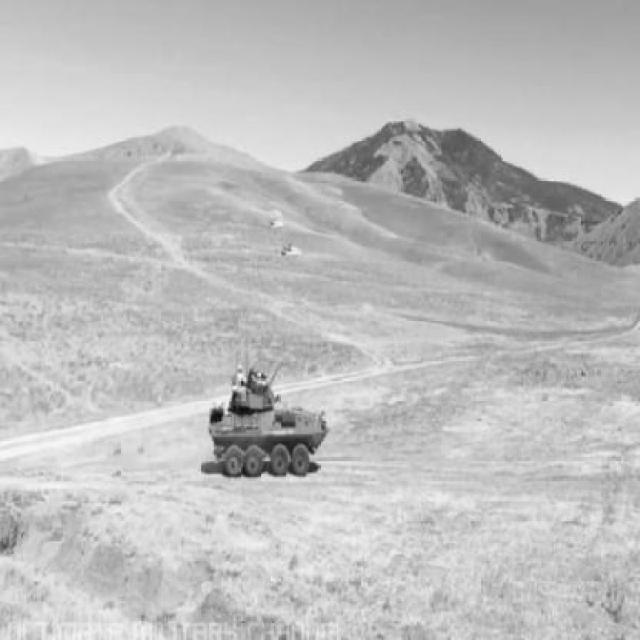Vehicle: (207, 379, 332, 479)
